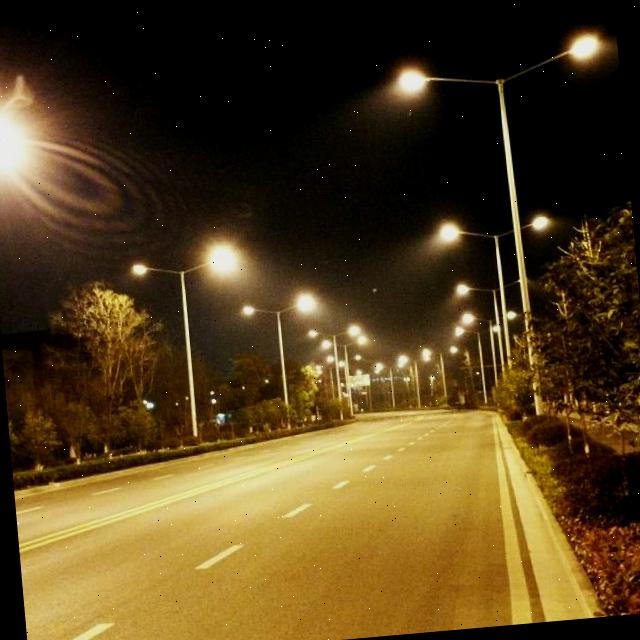curb: (503, 425, 602, 617), (14, 438, 282, 499)
